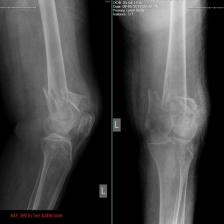intra-articular-fracture: (0, 0, 96, 224), (119, 2, 209, 224)
